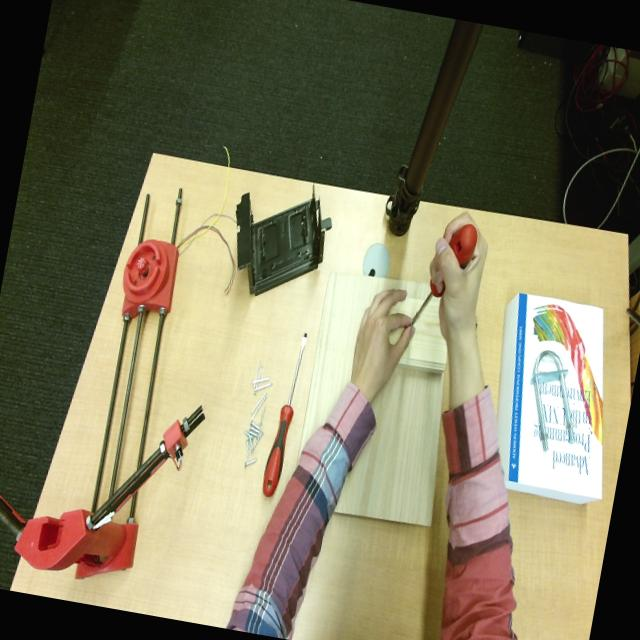screwdriver: (262, 333, 307, 496), (411, 282, 444, 325), (449, 224, 477, 268)
